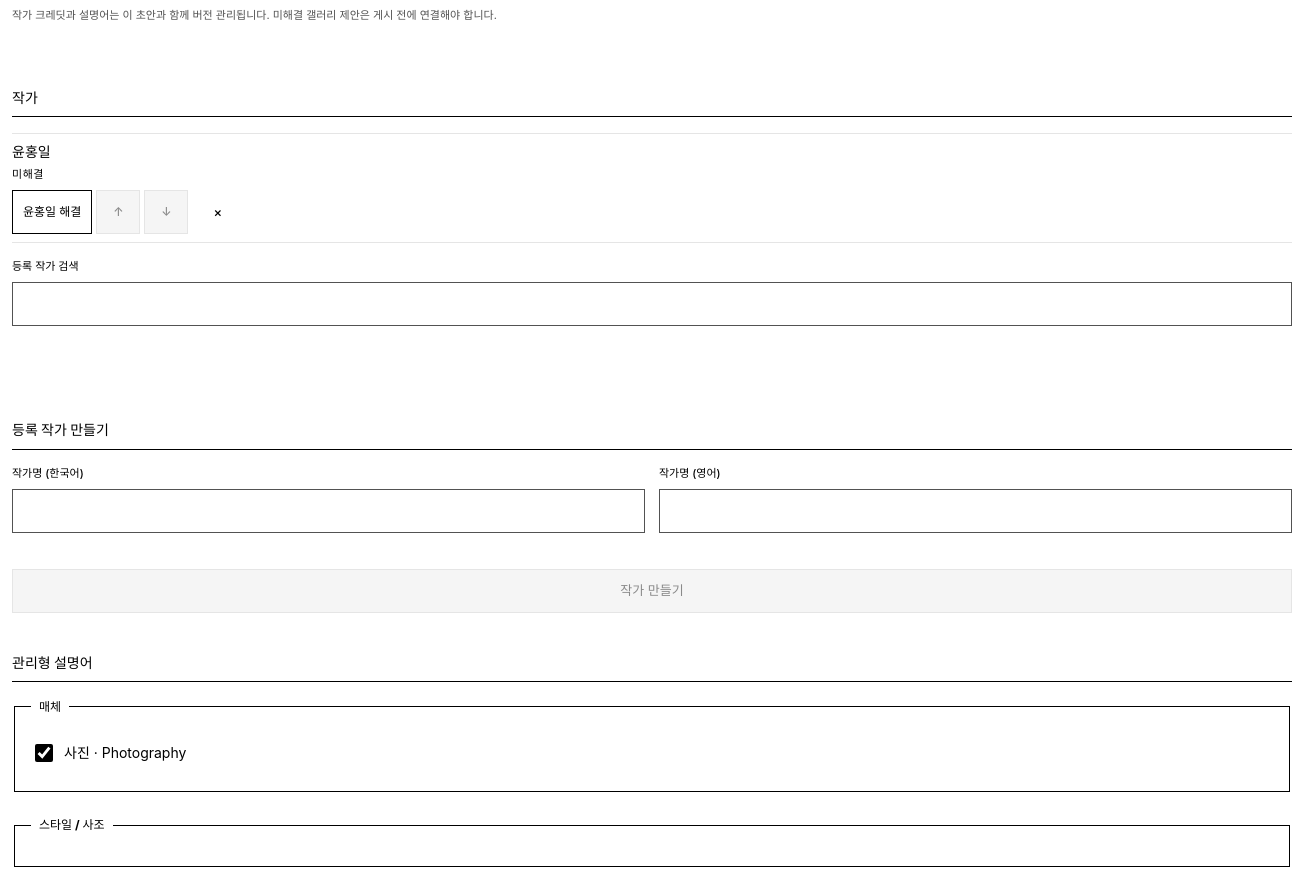
ExhibitionArtMetadataEditor › shows Korean resolution copy and prefills the Korean search name
Step 1. Click the button "윤홍일 해결" → (52, 212), box top-left (12, 190), bottom-right (92, 234)
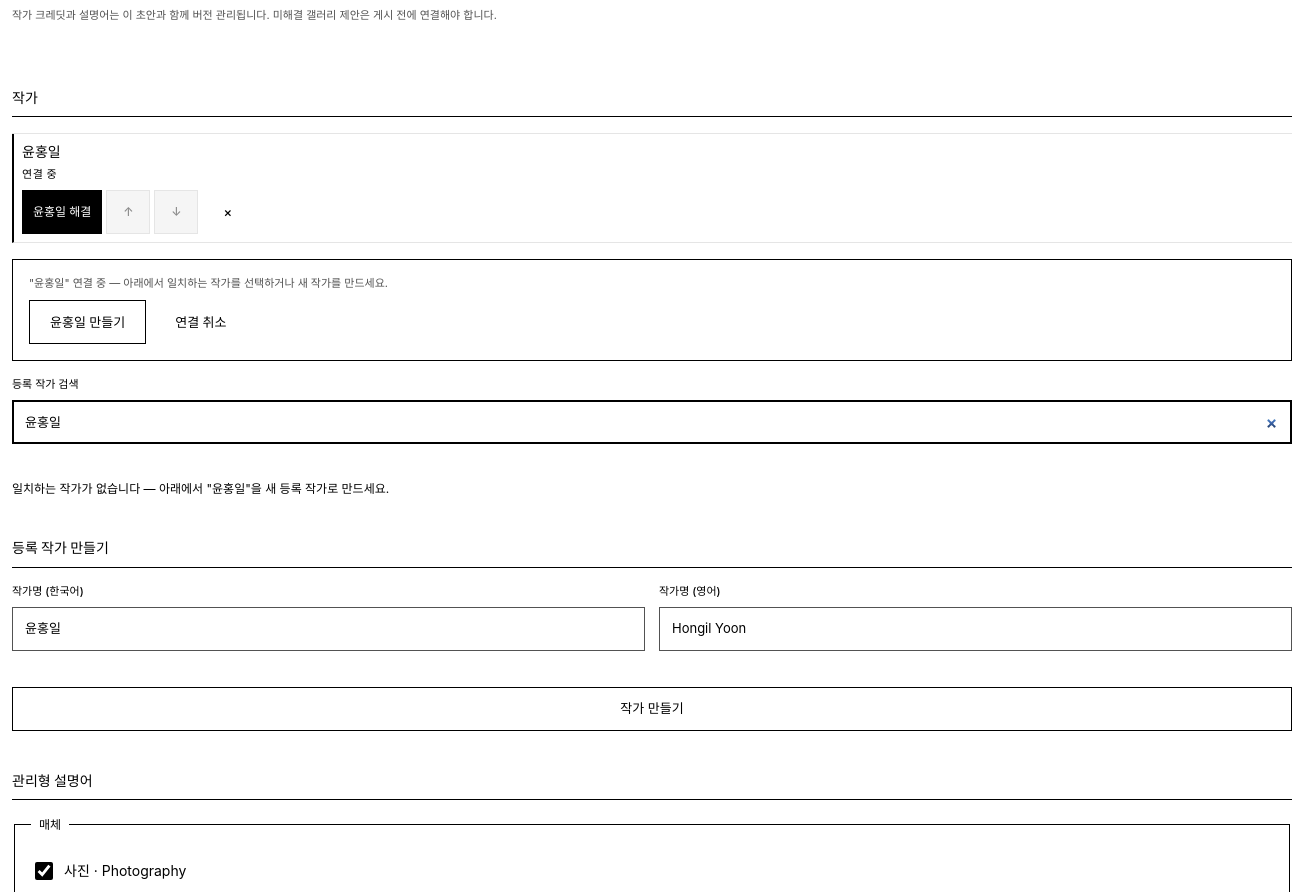
Result: the search field holds "윤홍일" at top-left (12, 400), bottom-right (1292, 444)
Result: the text "\"윤홍일\" 연결 중 — 아래에서 일치하는 작가를 선택하거나 새 작가를 만드세요." is shown at top-left (29, 276), bottom-right (388, 290)
Result: the text "일치하는 작가가 없습니다 — 아래에서 \"윤홍일\"을 새 등록 작가로 만드세요." is shown at top-left (12, 481), bottom-right (389, 496)
